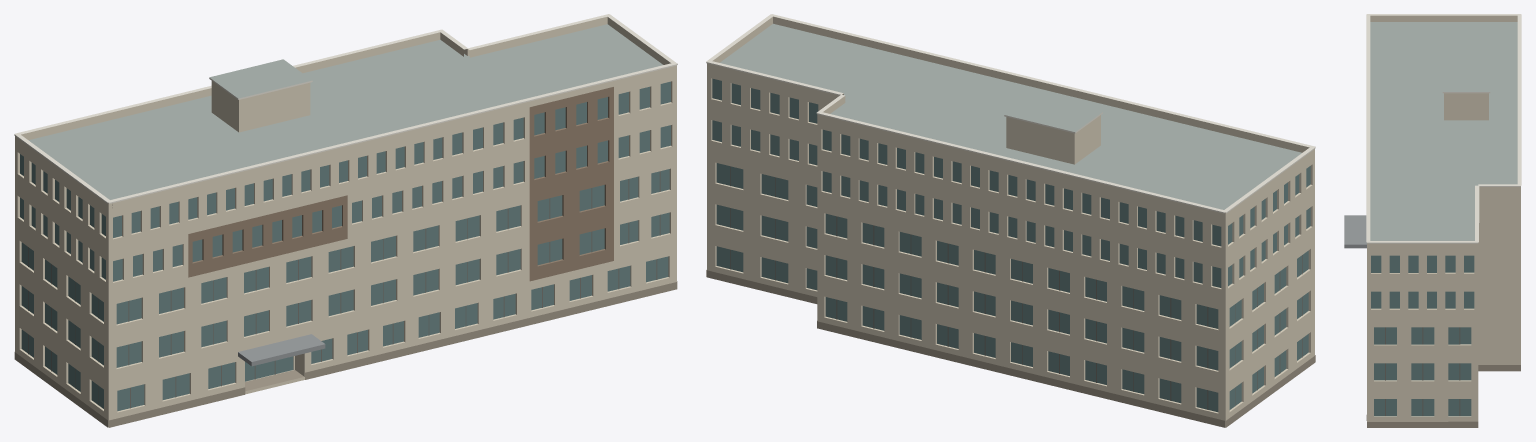
3 renders of one model, left to right at view 1: azimuth 30°, elevation 25°; view 2: azimuth 150°, elevation 25°; view 3: azimuth 270°, elevation 25°, orthographic. The views are drawn at different scales.
Visible parts, largest first — view 1: languageCenter__wall, languageCenter__roof, languageCenter__glass, languageCenter__wall2, languageCenter__parapet, languageCenter__base, languageCenter__trim, languageCenter__frame, languageCenter__canopy; view 2: languageCenter__wall, languageCenter__roof, languageCenter__glass, languageCenter__parapet, languageCenter__trim, languageCenter__base, languageCenter__frame; view 3: languageCenter__roof, languageCenter__wall, languageCenter__glass, languageCenter__trim, languageCenter__parapet, languageCenter__base, languageCenter__canopy, languageCenter__frame.
Boxes of the visible parts, <box> form: languageCenter__wall: <box>15,71,676,427</box>; languageCenter__roof: <box>28,24,662,199</box>; languageCenter__glass: <box>20,81,670,411</box>; languageCenter__wall2: <box>188,87,613,281</box>; languageCenter__parapet: <box>15,16,676,209</box>; languageCenter__base: <box>14,281,677,427</box>; languageCenter__trim: <box>14,14,677,203</box>; languageCenter__frame: <box>28,171,660,408</box>; languageCenter__canopy: <box>238,334,325,366</box>; languageCenter__wall: <box>707,69,1314,427</box>; languageCenter__roof: <box>720,23,1301,209</box>; languageCenter__glass: <box>712,78,1310,412</box>; languageCenter__parapet: <box>707,16,1314,219</box>; languageCenter__trim: <box>706,14,1315,213</box>; languageCenter__base: <box>706,270,1315,427</box>; languageCenter__frame: <box>730,166,1302,409</box>; languageCenter__roof: <box>1370,22,1517,240</box>; languageCenter__wall: <box>1367,93,1520,421</box>; languageCenter__glass: <box>1371,255,1474,416</box>; languageCenter__trim: <box>1366,14,1521,243</box>; languageCenter__parapet: <box>1367,15,1520,248</box>; languageCenter__base: <box>1366,365,1520,427</box>; languageCenter__canopy: <box>1344,215,1366,248</box>; languageCenter__frame: <box>1385,327,1460,416</box>.
Bounding box in the file's own units: 47.92 × 20.3 × 15.7.
